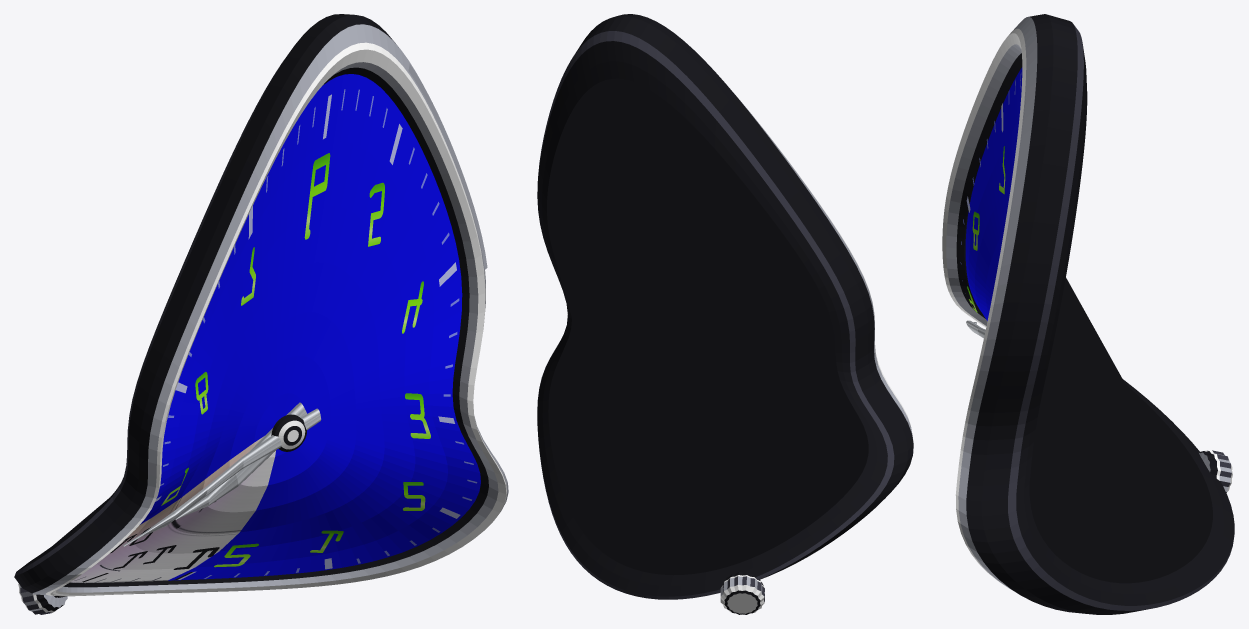
Rendered from clock-05.obj.
3 views of the same model, side by side, from view 1: azimuth 30°, elevation 25°; view 2: azimuth 150°, elevation 25°; view 3: azimuth 270°, elevation 25° (orthographic). The views are drawn at different scales.
Parts seen in each view (by area): view 1: clock-05; view 2: clock-05; view 3: clock-05.
Part boxes in pixels (<box>): clock-05: <box>14,14,508,614</box>; clock-05: <box>537,14,913,614</box>; clock-05: <box>942,14,1234,614</box>.
Bounding box in the file's own units: 1.48 × 1.94 × 0.8716.
Materials: 11 (3 with a texture image).
